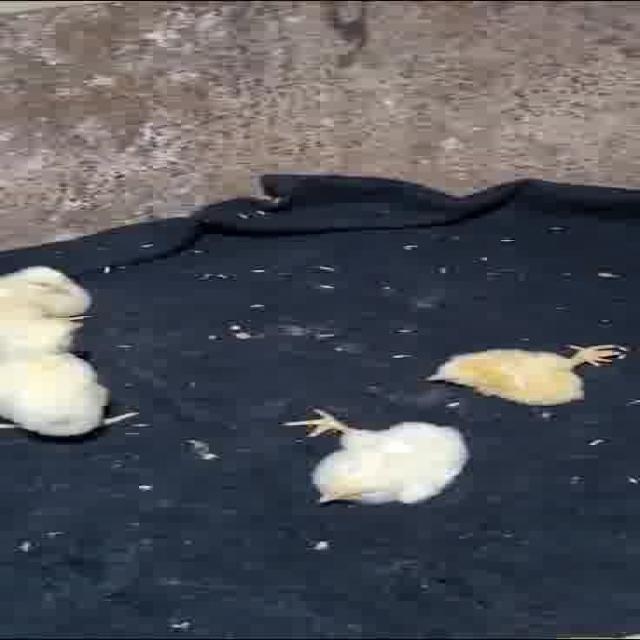poussin: (282, 406, 484, 508), (0, 265, 105, 446), (430, 335, 626, 410)
